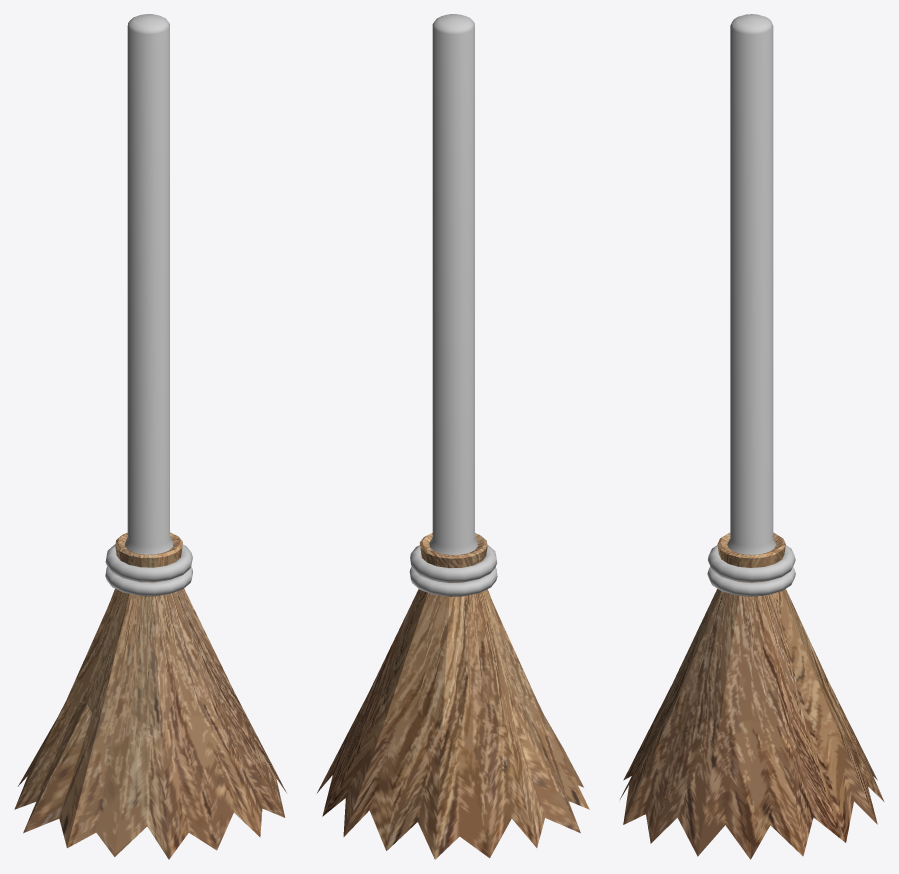
Rendered from Broom.FBX.
3 views of the same model, side by side, from view 1: azimuth 30°, elevation 25°; view 2: azimuth 150°, elevation 25°; view 3: azimuth 270°, elevation 25° (orthographic).
Parts seen in each view (by area): view 1: Broom; view 2: Broom; view 3: Broom.
Part boxes in pixels (x1=…): Broom: x1=14, y1=14, x2=286, y2=859; Broom: x1=317, y1=14, x2=589, y2=859; Broom: x1=620, y1=14, x2=884, y2=859.
Bounding box in the file's own units: 17.05 × 16.06 × 52.14.
